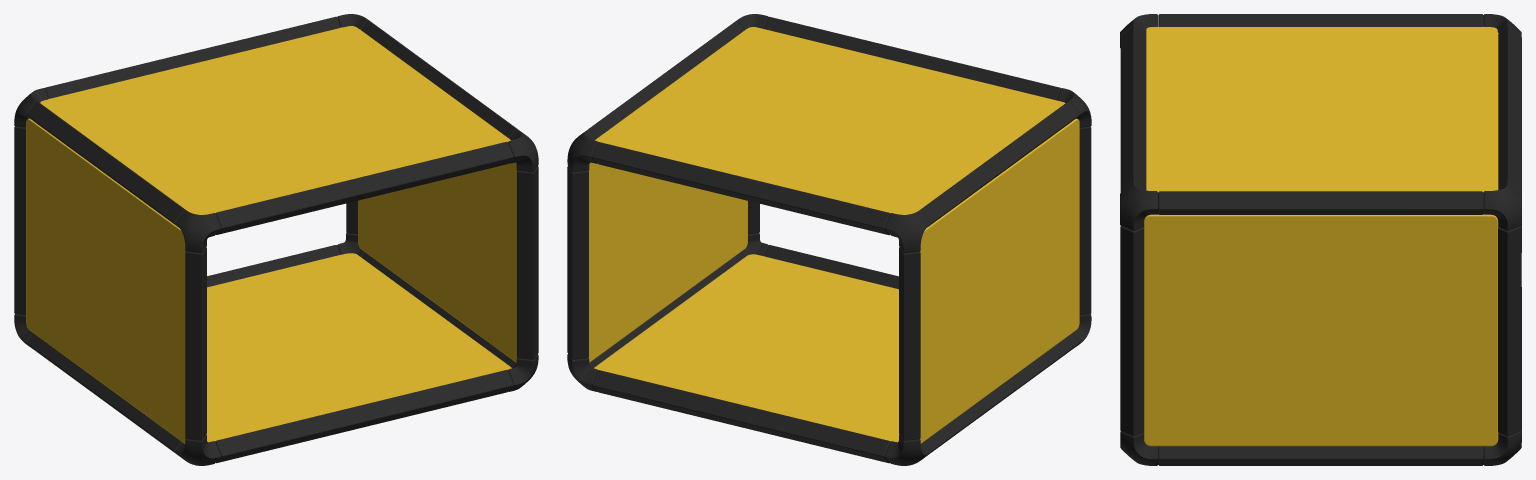
3 views of the same model, side by side, from view 1: azimuth 30°, elevation 25°; view 2: azimuth 150°, elevation 25°; view 3: azimuth 270°, elevation 25° (orthographic). The views are drawn at different scales.
Visible parts, largest first — view 1: 374x329x229; view 2: 374x329x229; view 3: 374x329x229.
Part boxes in pixels (<box>): 374x329x229: <box>14,14,538,465</box>; 374x329x229: <box>567,14,1091,465</box>; 374x329x229: <box>1120,14,1521,465</box>.
Size of the model in its own units: 0.4517 by 0.3066 by 0.4063.
